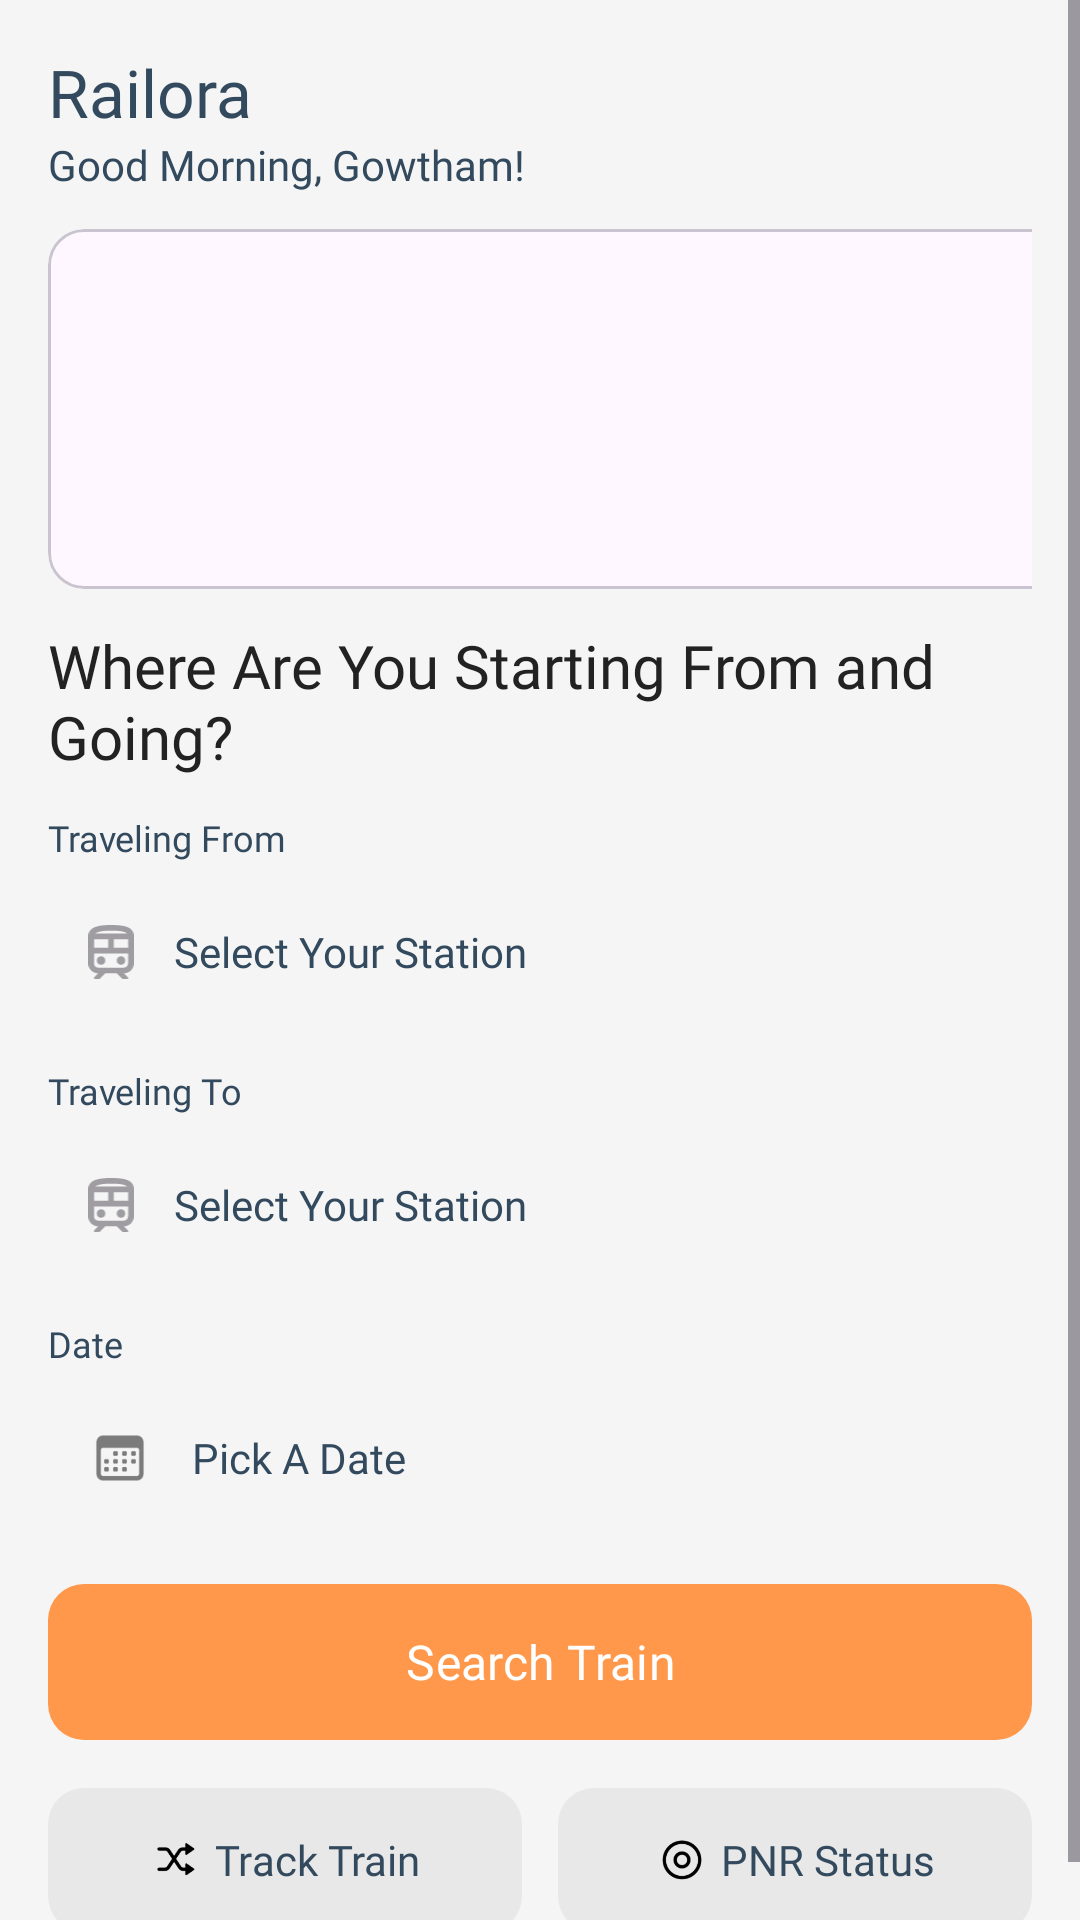

Where to tap for icons on this 1080*1920 app screen, as [x,y]:
calendar: [120,1458]
train: [111,952], [111,1205]
